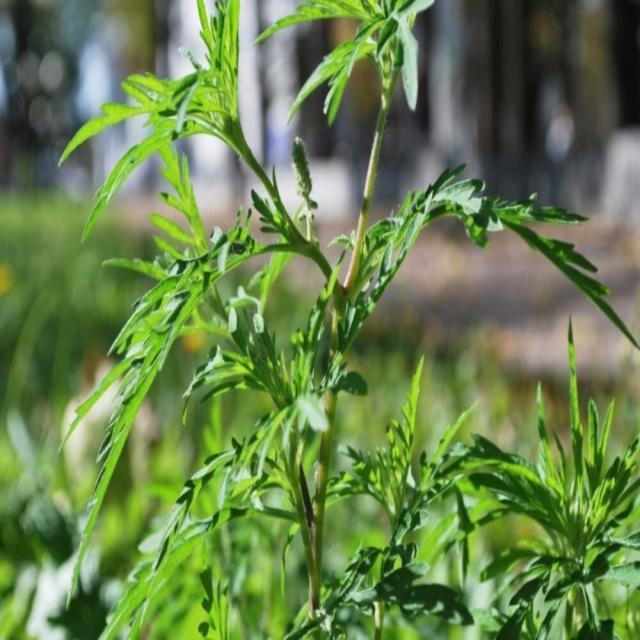ambrosia: (140, 38, 520, 584)
